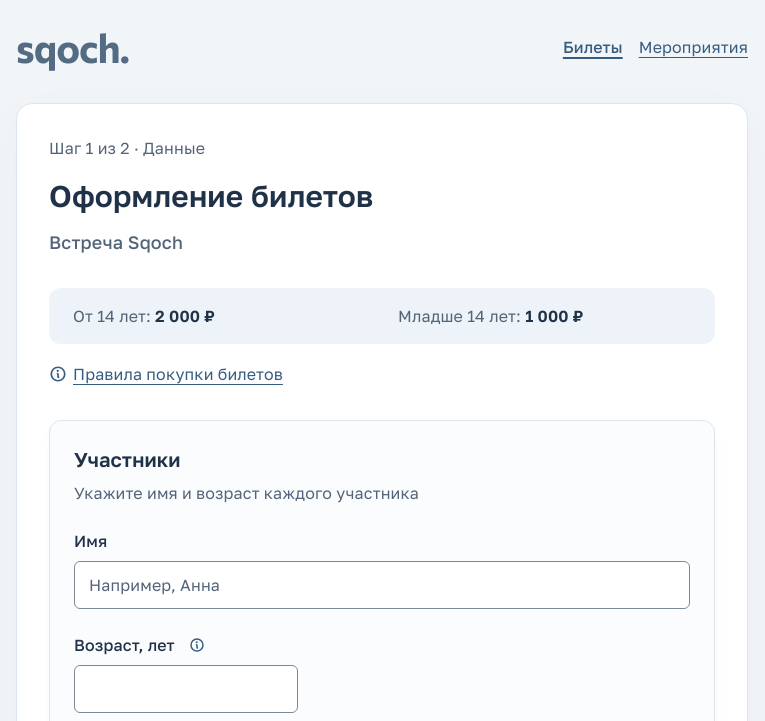
Scenario: Редактирование и подтверждение — test first › неизвестная серверная 422 сохраняет общий fallback, фокус и черновик
Expected: the heading "Оформление билетов" is shown, top-left (49, 178), bottom-right (373, 214)
Step 1. Type "Анна" into the field labelled "Имя" → (382, 585), box top-left (74, 561), bottom-right (690, 609)
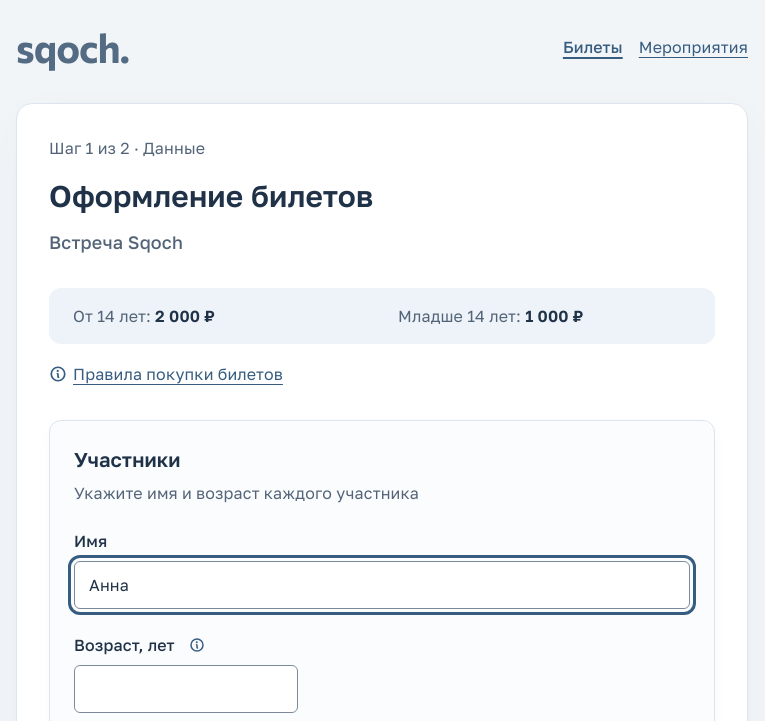
Step 2. Type "18" into the field labelled "Возраст, лет" → (186, 689), box top-left (74, 665), bottom-right (298, 713)
(page scrolled)
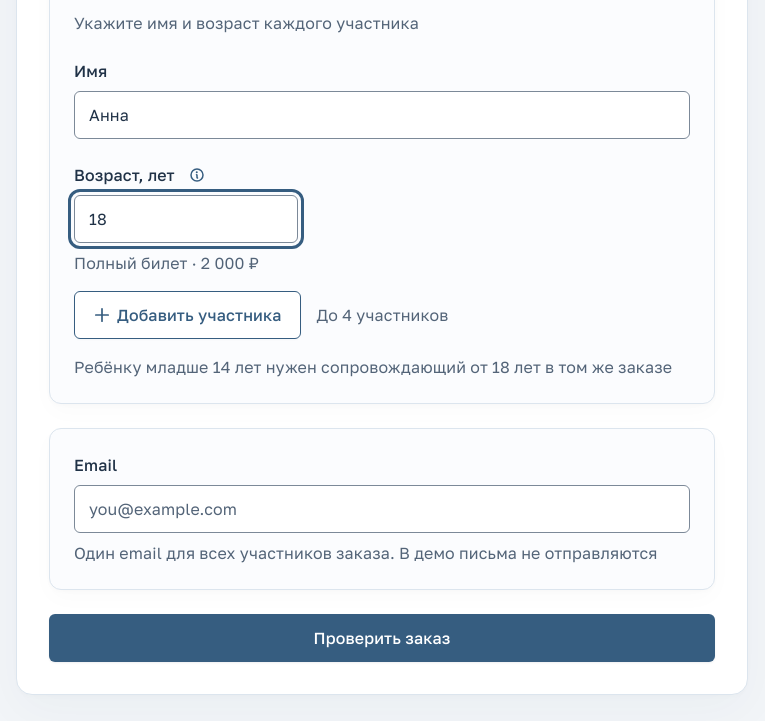
Step 3. Type "anna@example.com" into the field labelled "Email" → (382, 509), box top-left (74, 485), bottom-right (690, 533)
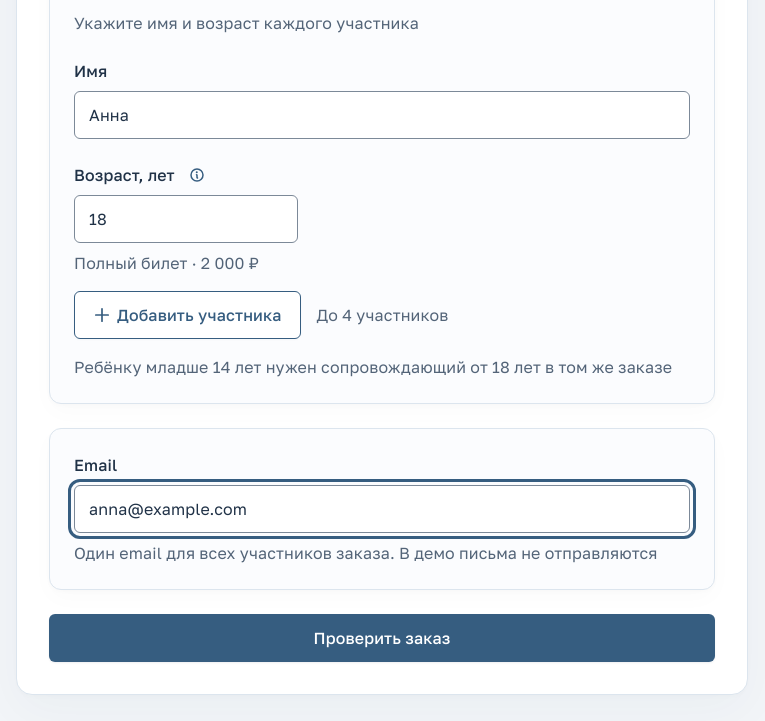
Step 4. Click the button "Проверить заказ" → (382, 638), box top-left (49, 614), bottom-right (715, 662)
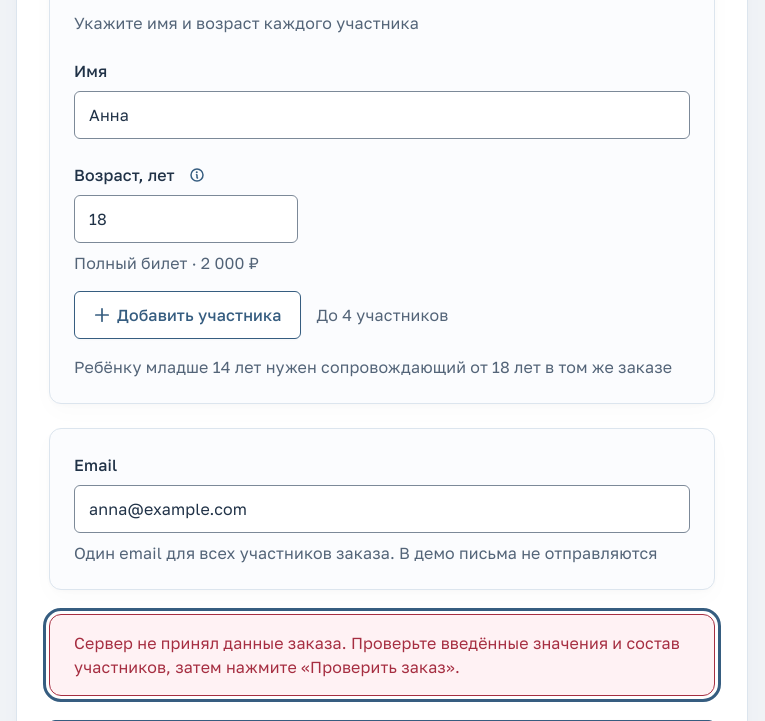
Expected: the message shows "Сервер не принял данные заказа", top-left (74, 633), bottom-right (680, 677)
